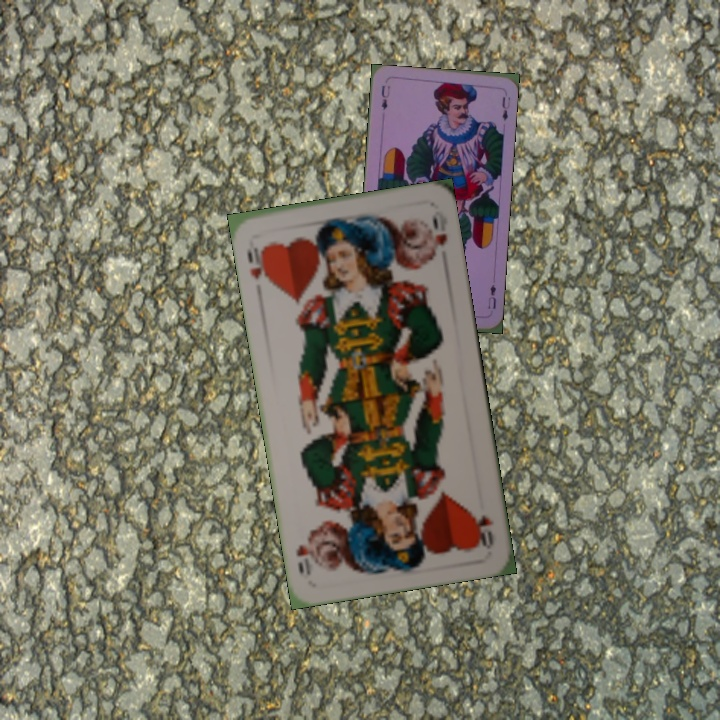EU: (377, 81, 392, 112), (484, 280, 498, 311)
HO: (243, 243, 272, 286), (473, 511, 496, 551)
